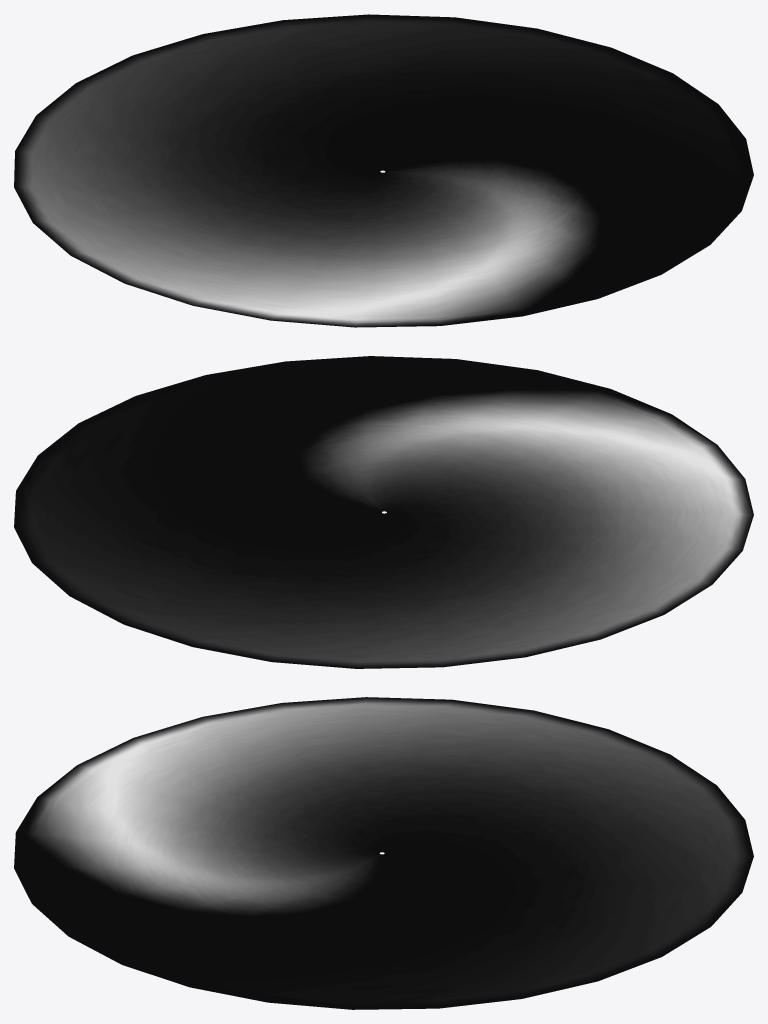
Rendered from 0198_XiaoZhiDeRenHeJiaWa_SkillD_Mesh_01.glb.
3 renders of one model, top to bottom at view 1: azimuth 30°, elevation 25°; view 2: azimuth 150°, elevation 25°; view 3: azimuth 270°, elevation 25°, orthographic.
Size of the model in its own units: 2.2 by 0 by 2.2.
1 material, 1 textured.
